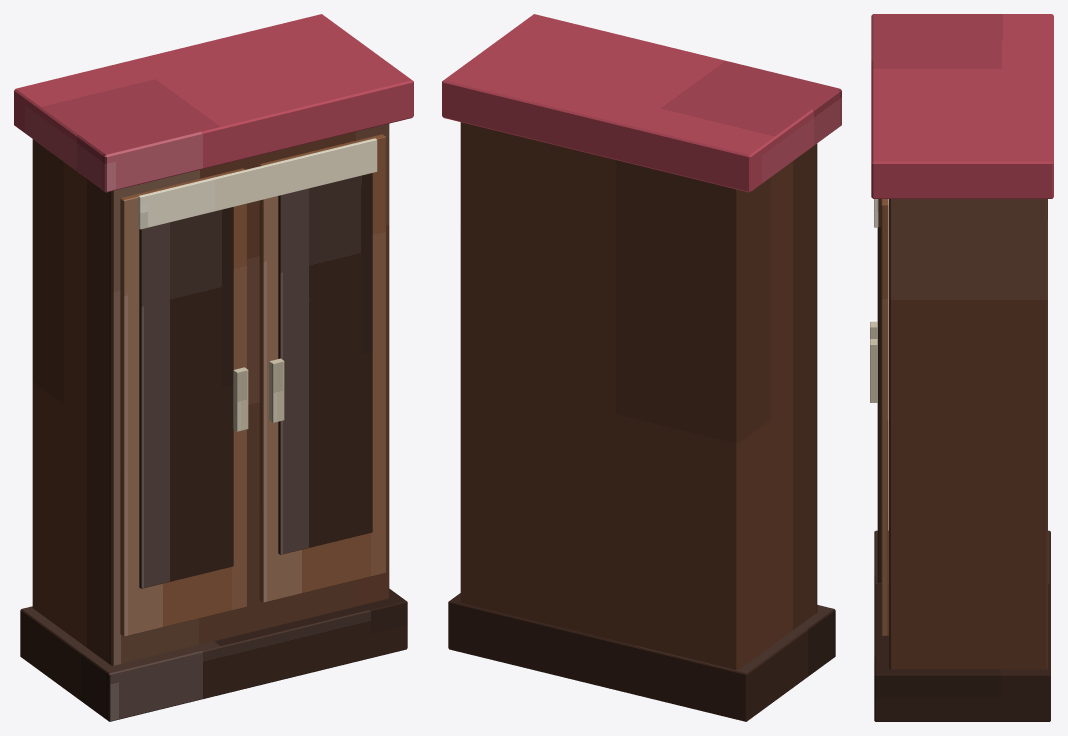
Rendered from bedroom_wardrobe.glb.
The picture shows the model from 3 angles, left to right: view 1: azimuth 30°, elevation 25°; view 2: azimuth 150°, elevation 25°; view 3: azimuth 270°, elevation 25°; orthographic projection.
Parts seen in each view (by area): view 1: WardrobeBody, WardrobeCrown, WardrobeInset_1, WardrobeInset_2, WardrobePlinth, WardrobeDoor_1, WardrobeDoor_2, WardrobeCarvedBand, WardrobeHandle_1, WardrobeHandle_2; view 2: WardrobeBody, WardrobeCrown, WardrobePlinth; view 3: WardrobeBody, WardrobeCrown, WardrobePlinth, WardrobeDoor_2, WardrobeInset_2, WardrobeHandle_2.
Part boxes in pixels (box(x1,y1,x2,y2)): WardrobeBody: box(32, 123, 389, 665); WardrobeCrown: box(14, 14, 413, 192); WardrobeInset_1: box(139, 207, 233, 588); WardrobeInset_2: box(278, 173, 372, 554); WardrobePlinth: box(20, 588, 407, 721); WardrobeDoor_1: box(120, 168, 246, 636); WardrobeDoor_2: box(259, 134, 385, 602); WardrobeCarvedBand: box(138, 138, 377, 229); WardrobeHandle_1: box(233, 367, 248, 431); WardrobeHandle_2: box(269, 358, 284, 422); WardrobeBody: box(460, 122, 817, 669); WardrobeCrown: box(442, 14, 841, 192); WardrobePlinth: box(448, 593, 835, 721); WardrobeBody: box(889, 199, 1047, 669); WardrobeCrown: box(871, 14, 1053, 198); WardrobePlinth: box(874, 530, 1050, 721); WardrobeDoor_2: box(881, 199, 888, 635); WardrobeInset_2: box(877, 199, 881, 583); WardrobeHandle_2: box(870, 339, 877, 402).
Bounding box in the file's own units: 1.2 × 2.11 × 0.6245.
1 material, 1 textured.
